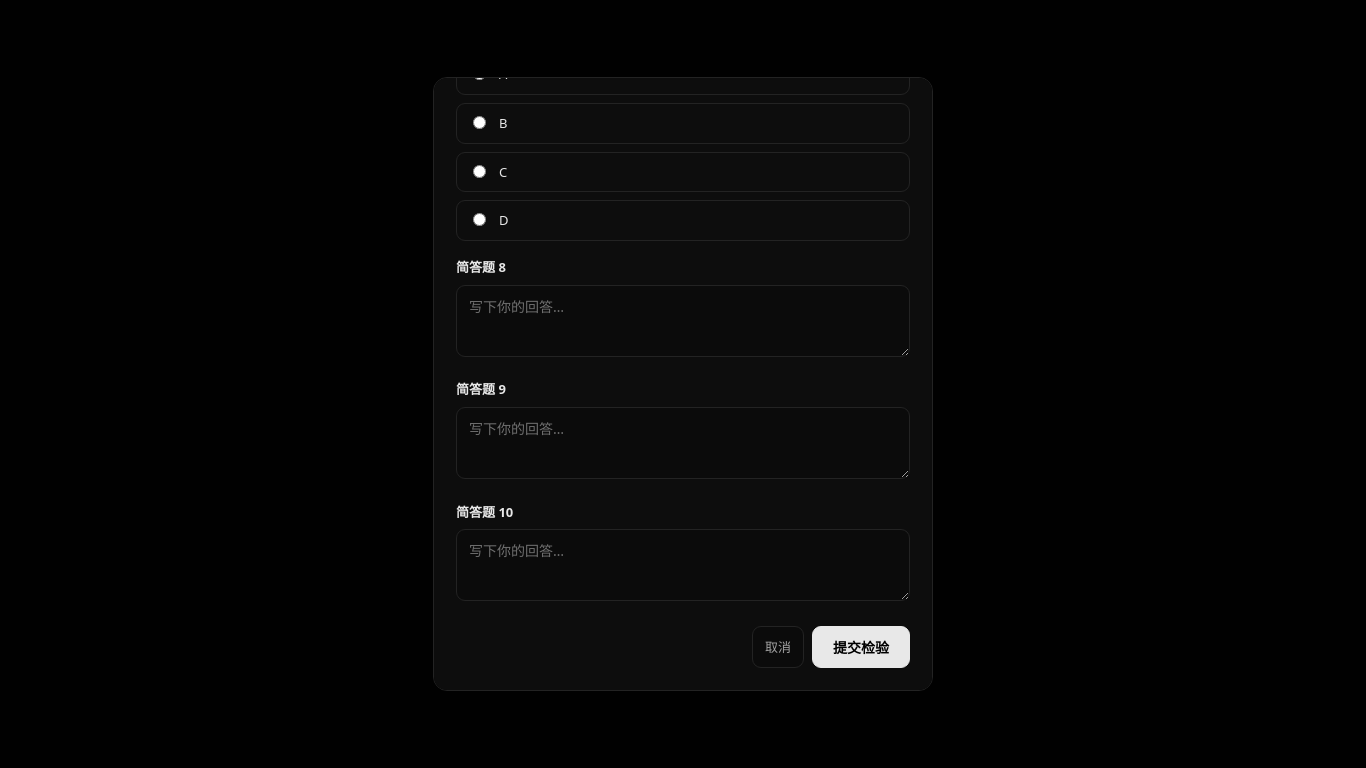
Scenario: VerificationModal › renders total points and transparent per-question results after a test submission
The width and height of the screenshot is (1366, 768).
(page scrolled)
Click the button "提交检验" at (861, 647), box [812,626,910,668]
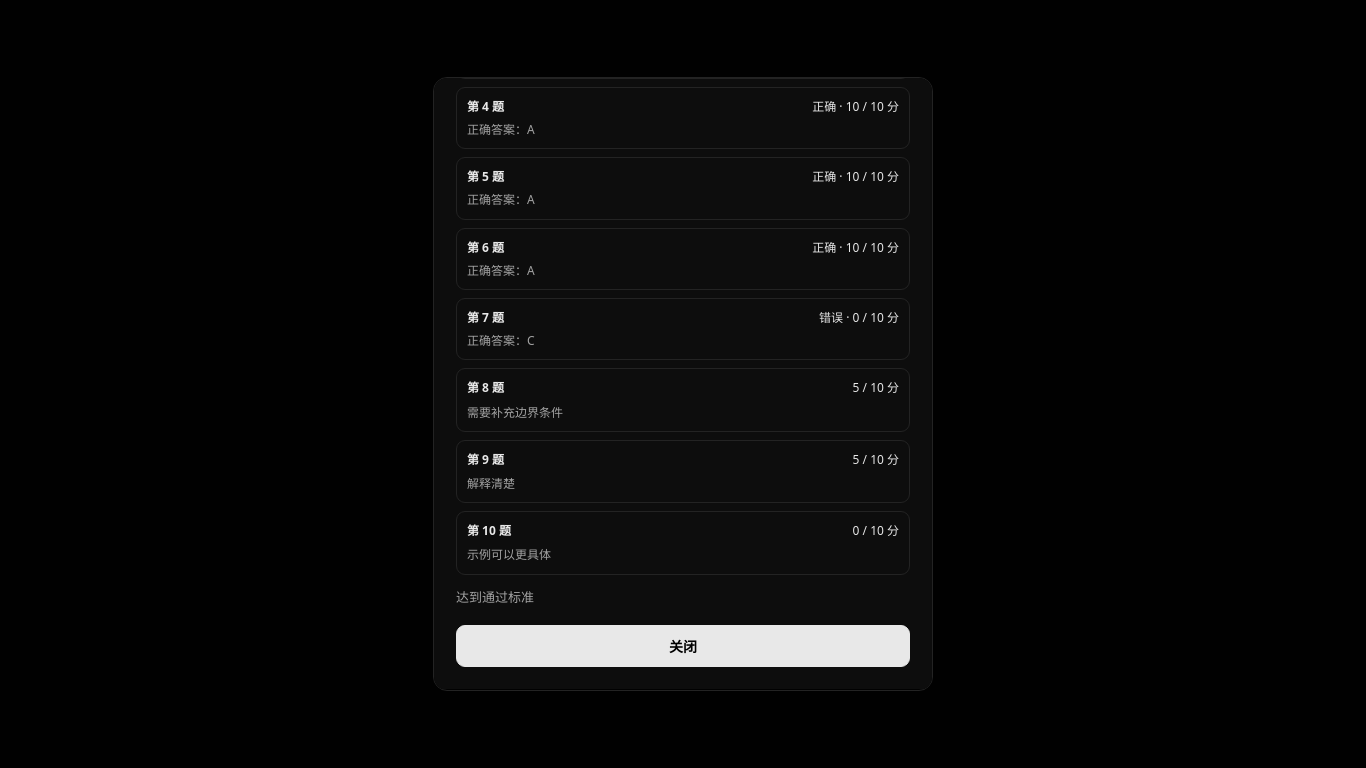
Result: the list item with test id "verification-detail-7" shows "错误" at [819,309,843,326]
Result: the list item with test id "verification-detail-7" shows "正确答案：C" at [456,298,910,360]
Result: the list item with test id "verification-detail-8" shows "5 / 10 分" at [853,379,899,396]
